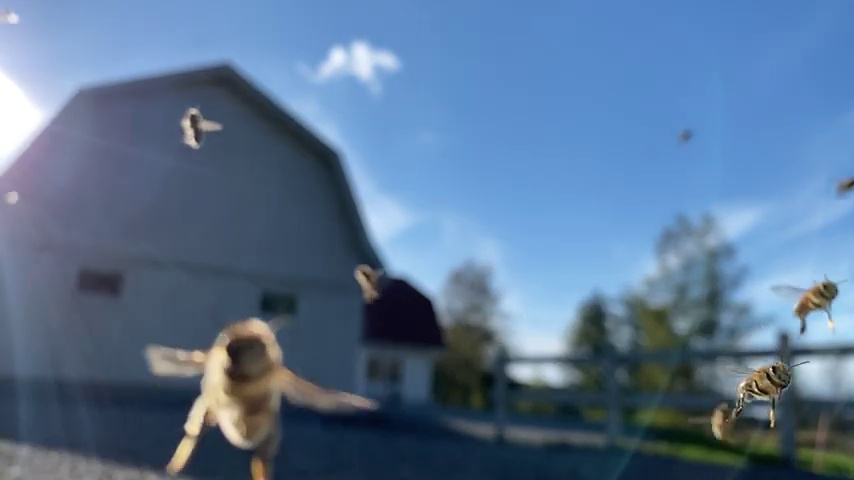insect: (134, 315, 377, 480), (723, 360, 809, 423), (769, 272, 851, 335), (176, 106, 225, 152), (355, 260, 385, 308)
